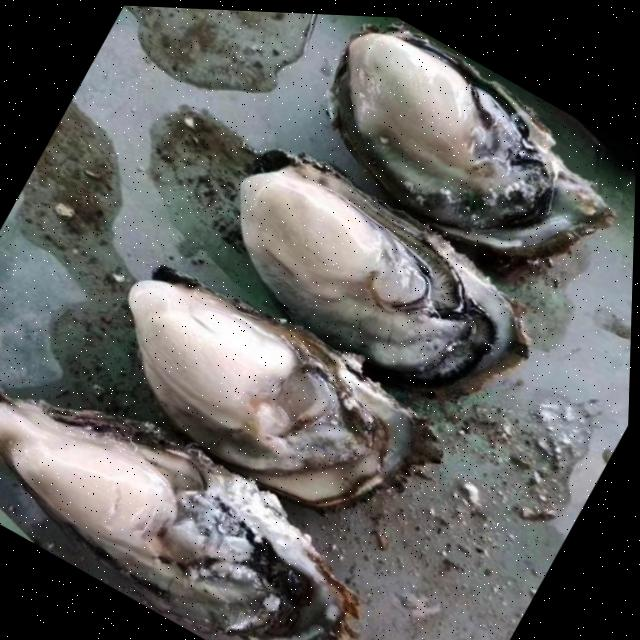Oyster-Open: (0, 391, 359, 640), (128, 274, 435, 508), (240, 158, 527, 393), (332, 29, 614, 257)
